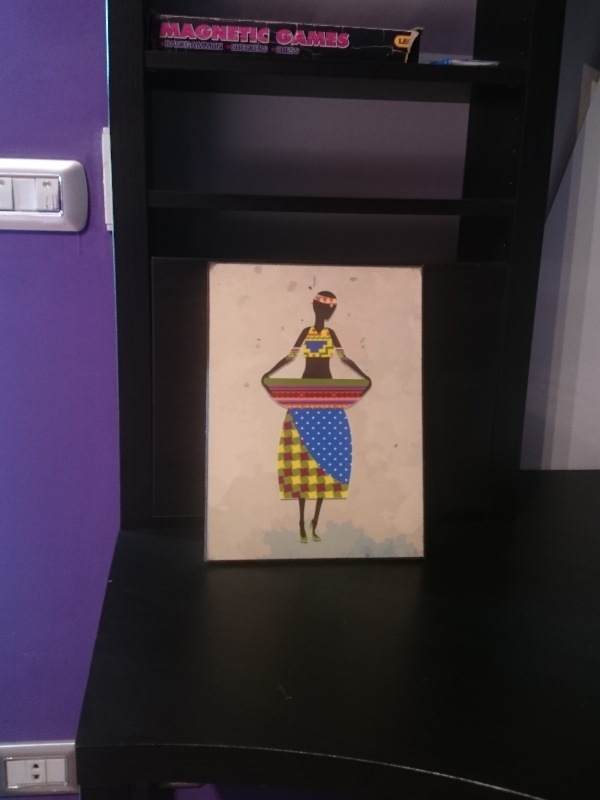my image: (207, 267, 421, 559)
